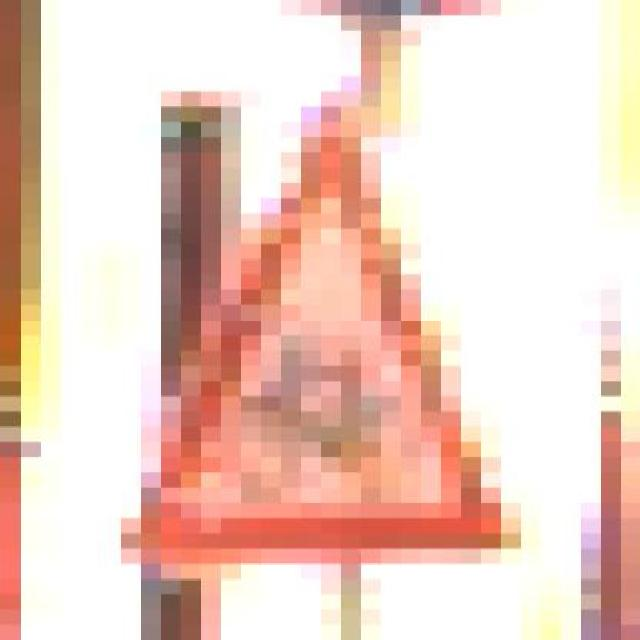CYCLE ROUTE AHEAD WARNING: (80, 92, 560, 579)
